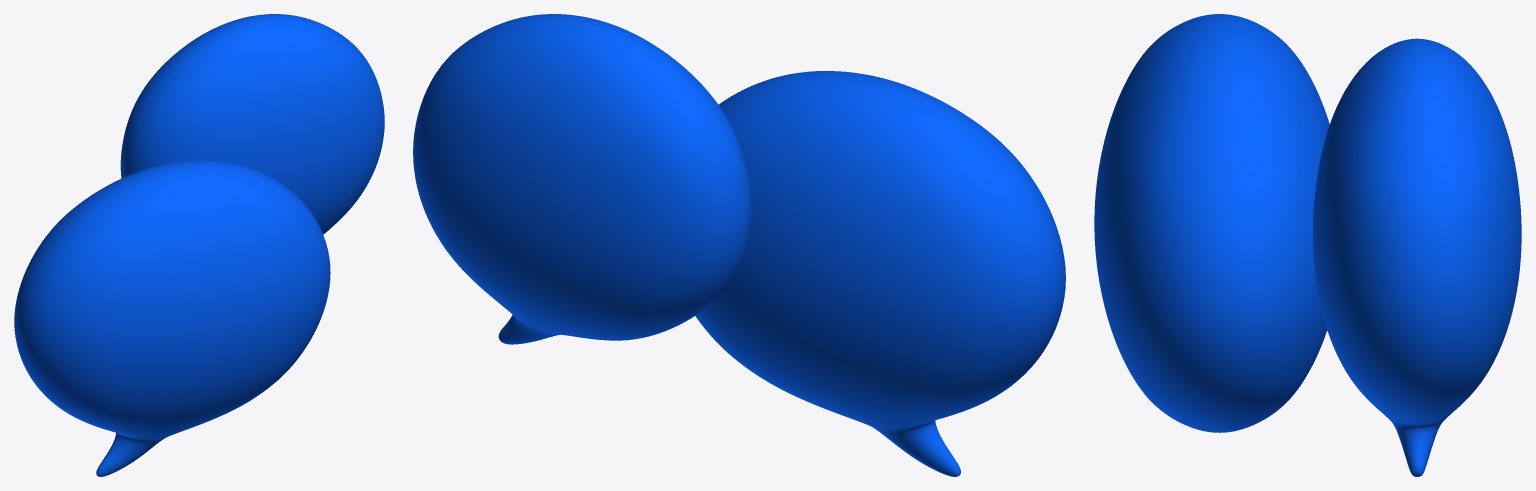
The model's file is chat-bubble.glb.
The picture shows the model from 3 angles, left to right: view 1: azimuth 30°, elevation 25°; view 2: azimuth 150°, elevation 25°; view 3: azimuth 270°, elevation 25°; orthographic projection. The views are drawn at different scales.
Parts seen in each view (by area): view 1: Chat-Bubble-2; view 2: Chat-Bubble-2; view 3: Chat-Bubble-2.
Part boxes in pixels (x1,y1,x2,y2): Chat-Bubble-2: (14,14,384,476); Chat-Bubble-2: (413,14,1065,476); Chat-Bubble-2: (1094,14,1521,476).
Size of the model in its own units: 1.97 by 1.55 by 1.2.
